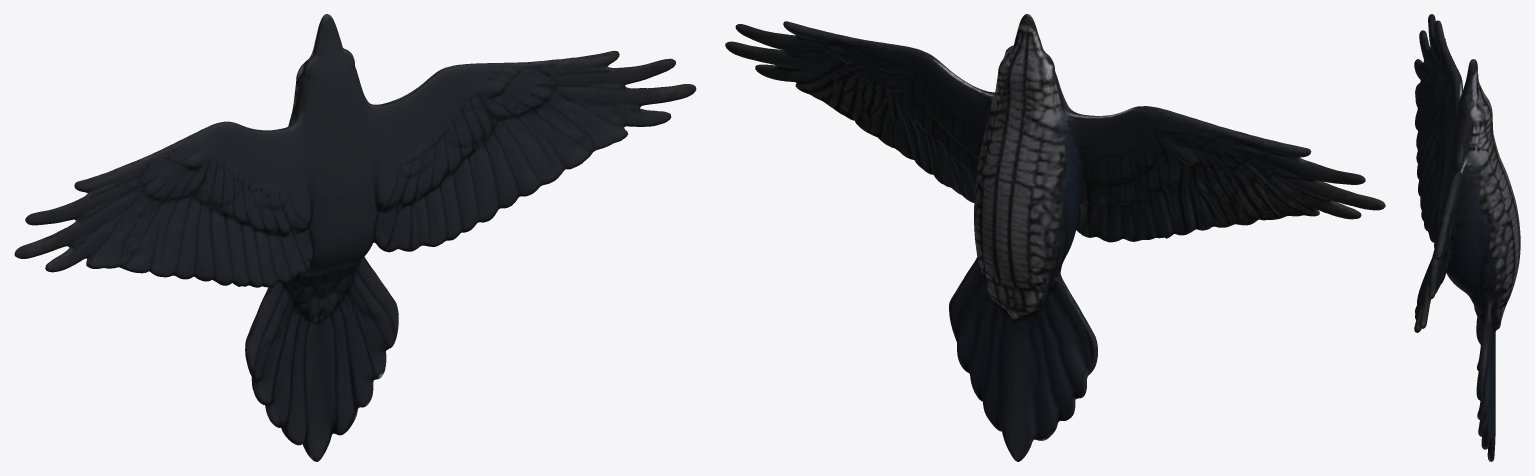
The model's file is crow_fly_paint.glb.
The picture shows the model from 3 angles, left to right: view 1: azimuth 30°, elevation 25°; view 2: azimuth 150°, elevation 25°; view 3: azimuth 270°, elevation 25°; orthographic projection. The views are drawn at different scales.
Visible parts, largest first — view 1: temp_mesh.ply; view 2: temp_mesh.ply; view 3: temp_mesh.ply.
Boxes of the visible parts, <box> form: temp_mesh.ply: <box>14,14,696,461</box>; temp_mesh.ply: <box>725,14,1385,461</box>; temp_mesh.ply: <box>1414,14,1520,461</box>.
Bounding box in the file's own units: 1.97 × 1.26 × 0.3018.
Materials: 1 (1 with a texture image).
